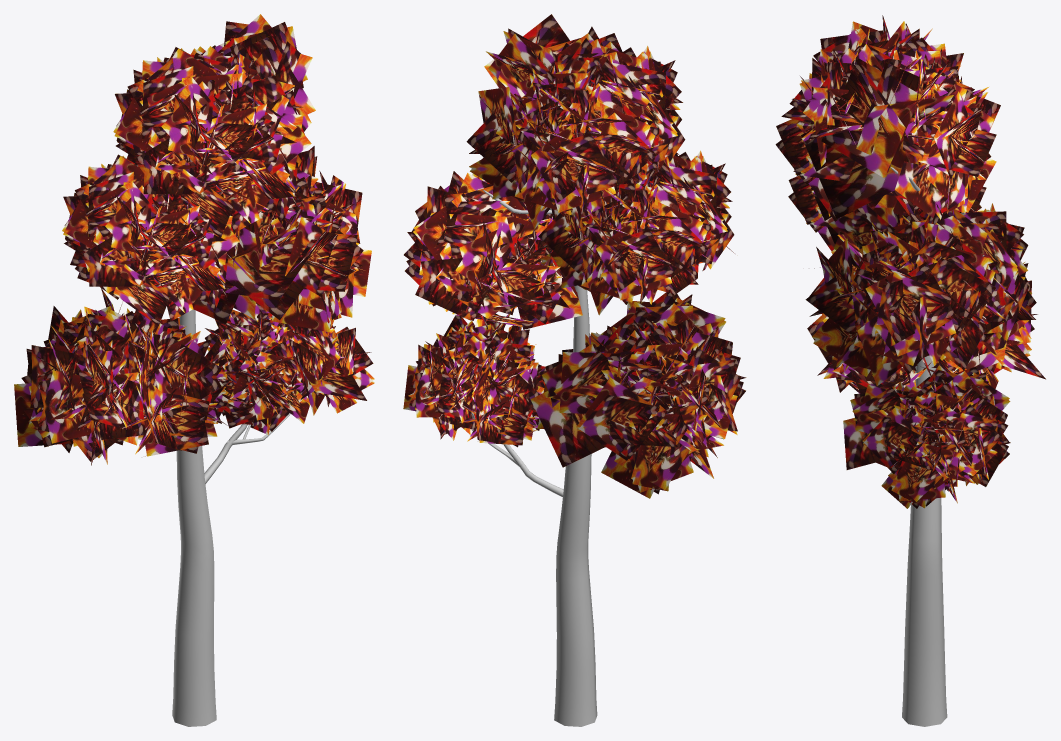
Rendered from Najee_BirchTree_1_Cube.obj.
3 renders of one model, left to right at view 1: azimuth 30°, elevation 25°; view 2: azimuth 150°, elevation 25°; view 3: azimuth 270°, elevation 25°, orthographic. The views are drawn at different scales.
Visible parts, largest first — view 1: BirchTree_1_Cube.004; view 2: BirchTree_1_Cube.004; view 3: BirchTree_1_Cube.004.
Boxes of the visible parts, <box> form: BirchTree_1_Cube.004: <box>14,14,374,726</box>; BirchTree_1_Cube.004: <box>403,14,746,726</box>; BirchTree_1_Cube.004: <box>775,15,1045,726</box>.
Bounding box in the file's own units: 2.71 × 5.45 × 1.94.
